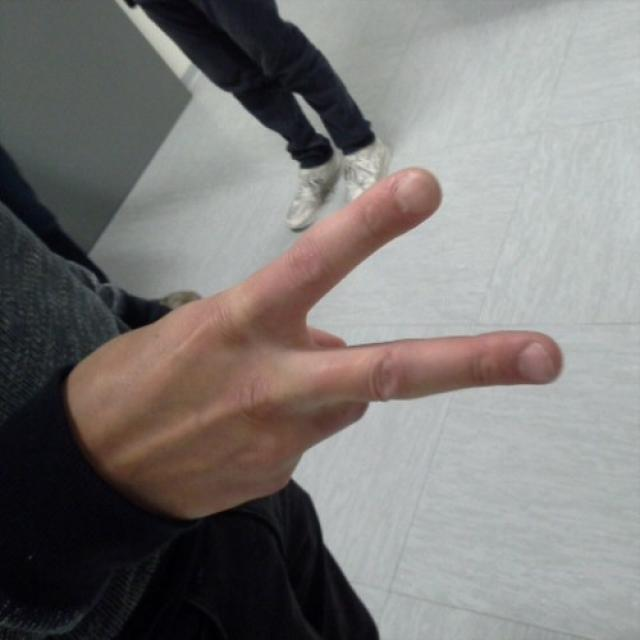scissors: (75, 170, 568, 500)
